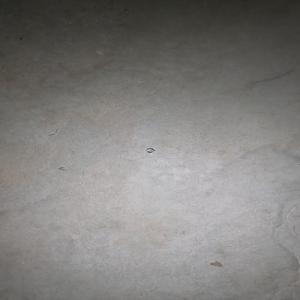Nut: (145, 148, 155, 154)
